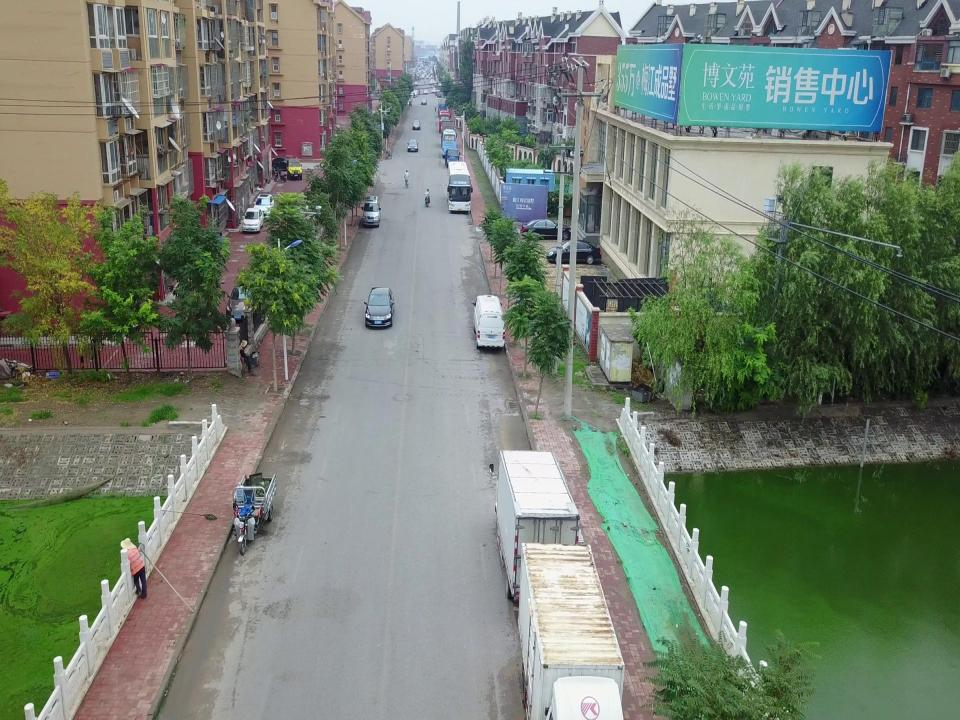bus: (447, 160, 473, 213), (441, 128, 458, 159), (439, 109, 451, 133)
car: (225, 277, 259, 322), (546, 239, 602, 265), (363, 286, 395, 330), (520, 217, 572, 241), (253, 193, 275, 220), (241, 207, 263, 232), (266, 156, 292, 172), (286, 157, 303, 181), (407, 139, 419, 152), (411, 120, 421, 130), (421, 98, 427, 105)
truck: (517, 542, 626, 720), (488, 448, 580, 604), (445, 147, 460, 168), (437, 103, 447, 117)
van: (470, 294, 506, 349), (361, 195, 382, 228)
